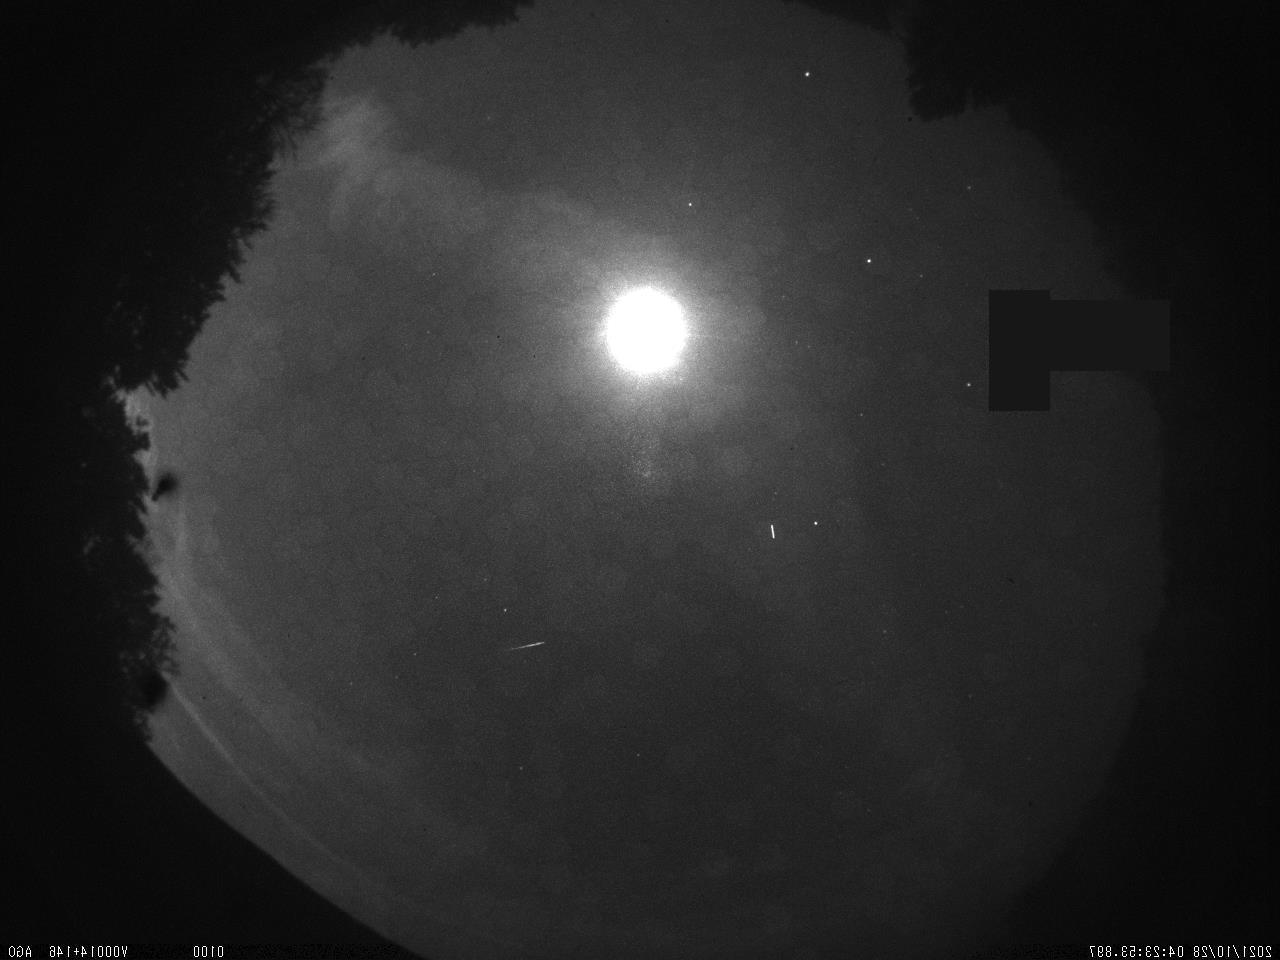meteor: (497, 633, 556, 662)
